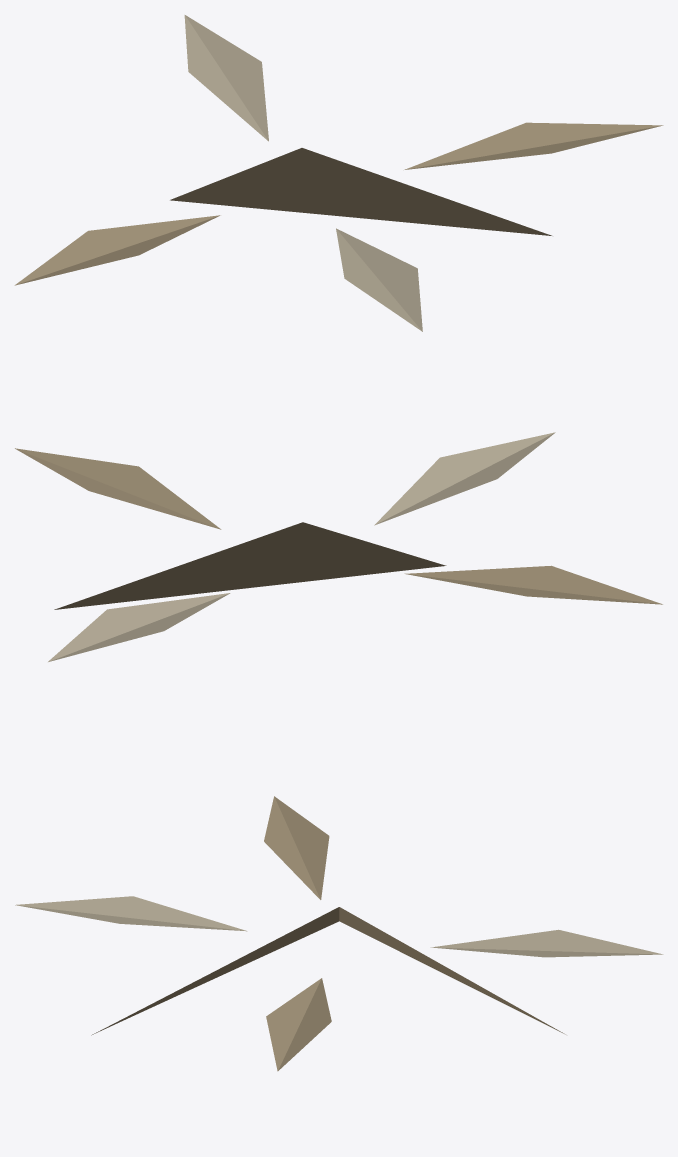
File: shui.huwei@withered__winter.glb
3 views of the same model, one above another, from view 1: azimuth 30°, elevation 25°; view 2: azimuth 150°, elevation 25°; view 3: azimuth 270°, elevation 25° (orthographic). The views are drawn at different scales.
Visible parts, largest first — view 1: shui.huwei@withered__winter; view 2: shui.huwei@withered__winter; view 3: shui.huwei@withered__winter.
Part boxes in pixels (left/top/right/bottom): shui.huwei@withered__winter: left=14, top=15, right=663, bottom=331; shui.huwei@withered__winter: left=15, top=432, right=662, bottom=661; shui.huwei@withered__winter: left=15, top=796, right=663, bottom=1071.
Size of the model in its own units: 0.3823 by 0.084 by 0.3811.
